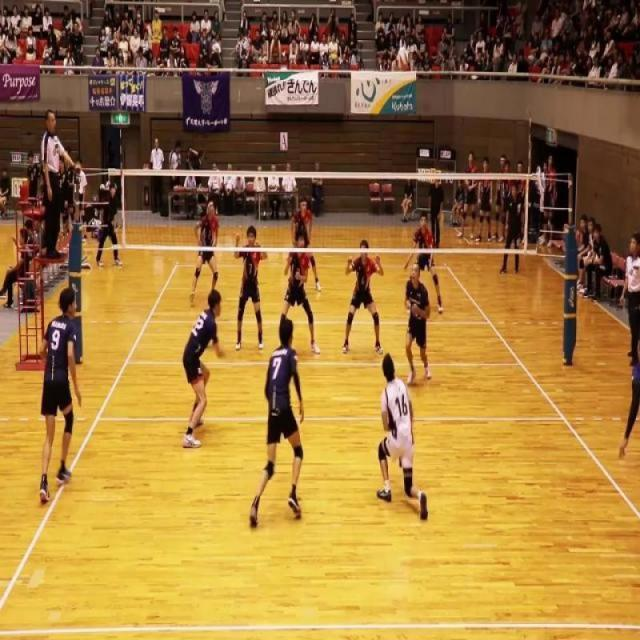volleyball: (398, 46, 408, 69)
